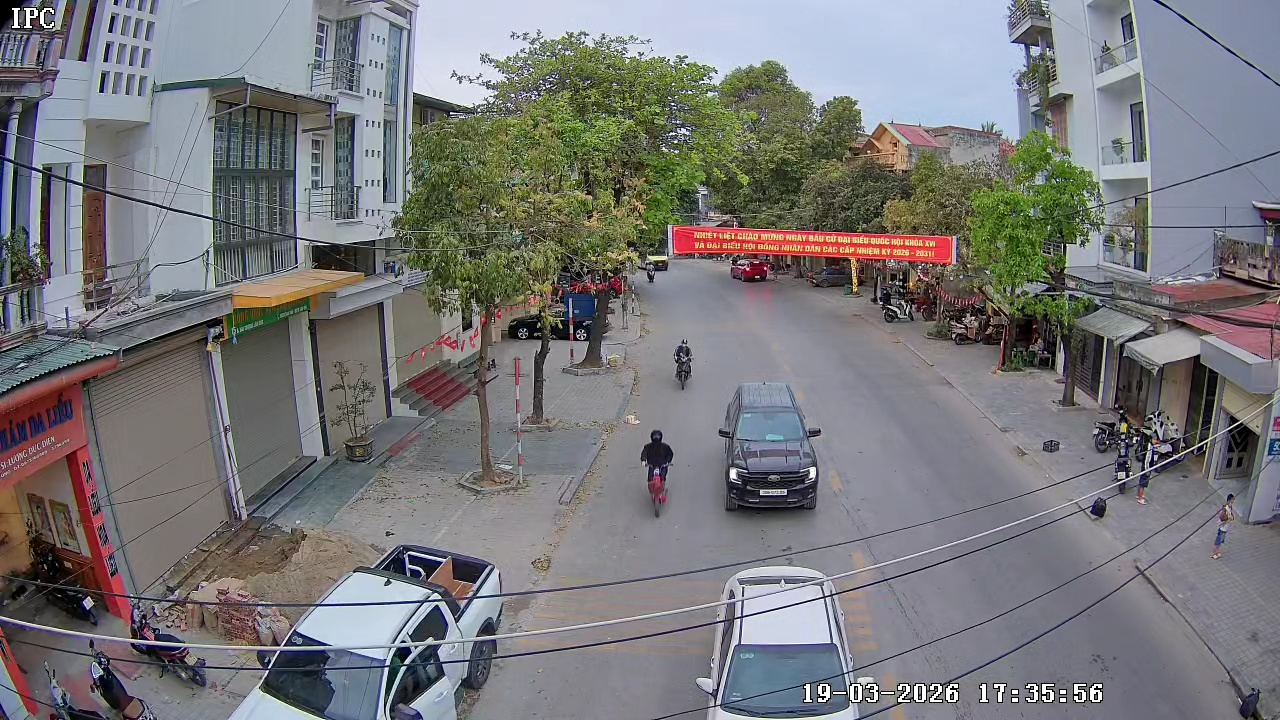car: (696, 557, 886, 719), (718, 380, 822, 513)
motorbike: (639, 428, 675, 518), (672, 334, 695, 389)
pedestrian: (1211, 495, 1234, 561), (1135, 446, 1155, 500)
